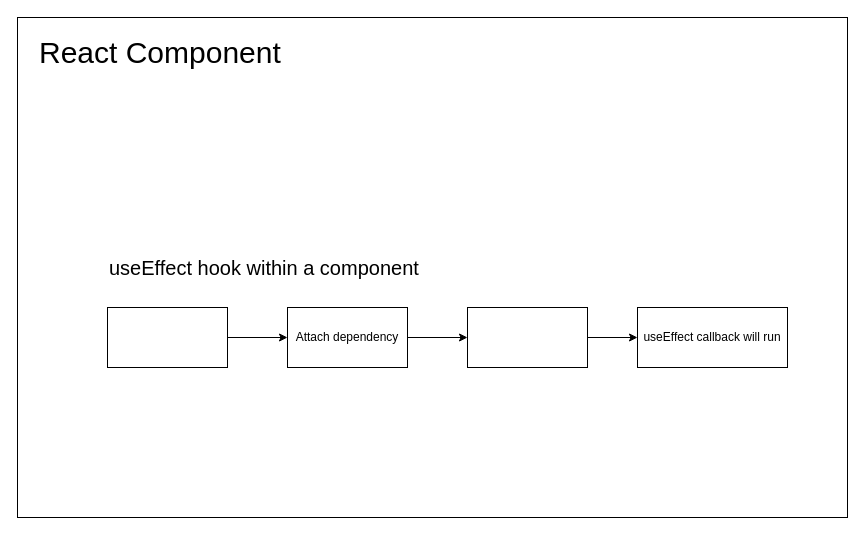
The diagram is 865 pixels wide and 535 high, and some of its shapes have lost their labels. The box of each missing label's shape, as (x1, y1, x2, y2) in pixels:
Create useEffect hook: (106, 306, 228, 368)
Dependency change: (466, 306, 588, 368)
